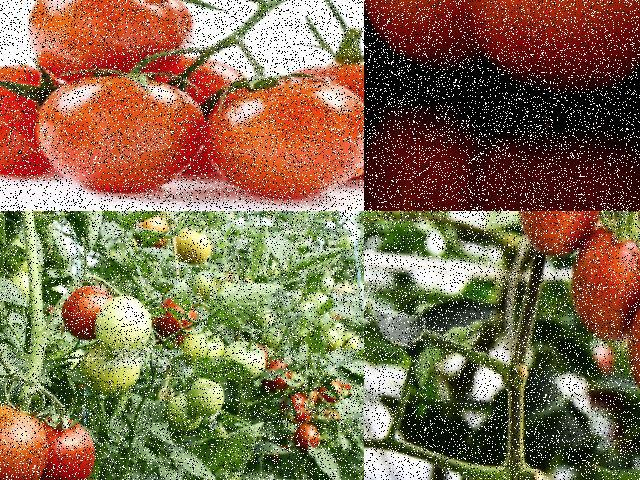tomato: (203, 81, 363, 205), (43, 76, 202, 198), (474, 0, 639, 92), (19, 0, 199, 79), (0, 62, 76, 192), (364, 0, 511, 61), (585, 215, 639, 356), (309, 62, 363, 181), (510, 211, 608, 266), (0, 407, 49, 479), (43, 415, 97, 479), (55, 277, 107, 335), (150, 305, 194, 334), (294, 428, 322, 450)
